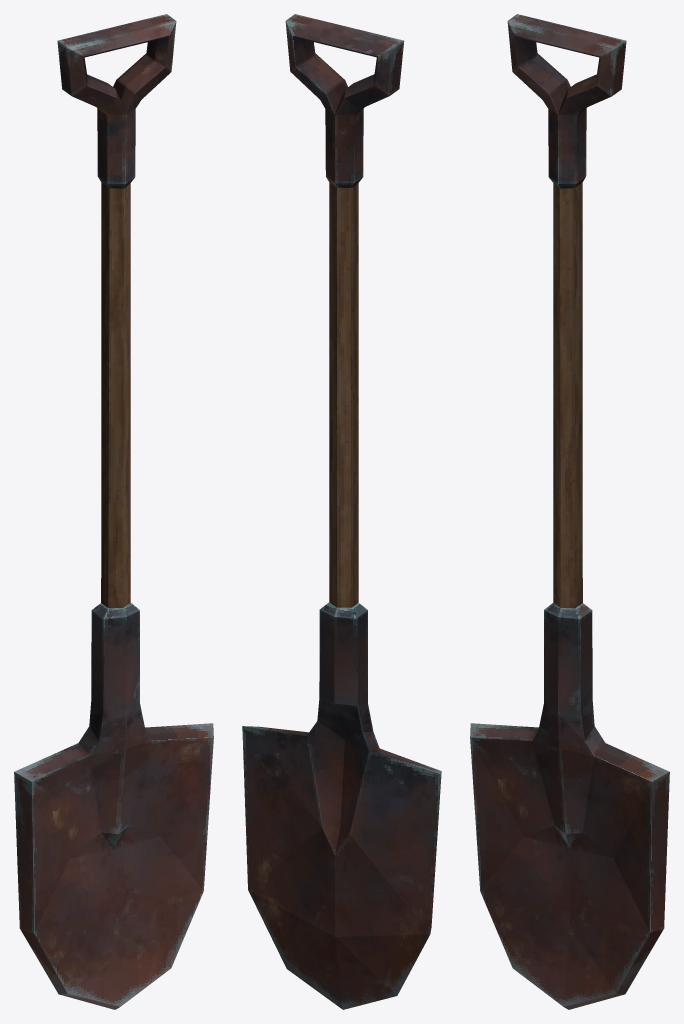
The model's file is item_shovel.glb.
3 views of the same model, side by side, from view 1: azimuth 30°, elevation 25°; view 2: azimuth 150°, elevation 25°; view 3: azimuth 330°, elevation 25° (orthographic).
Parts seen in each view (by area): view 1: shovel_tall_lp; view 2: shovel_tall_lp; view 3: shovel_tall_lp.
Boxes of the visible parts, x1,y1,x2,y2 form: shovel_tall_lp: (14,14,213,1009); shovel_tall_lp: (242,14,441,1009); shovel_tall_lp: (470,14,669,1009).
Size of the model in its own units: 0.2806 by 1.32 by 0.0491.
1 material, 1 textured.
